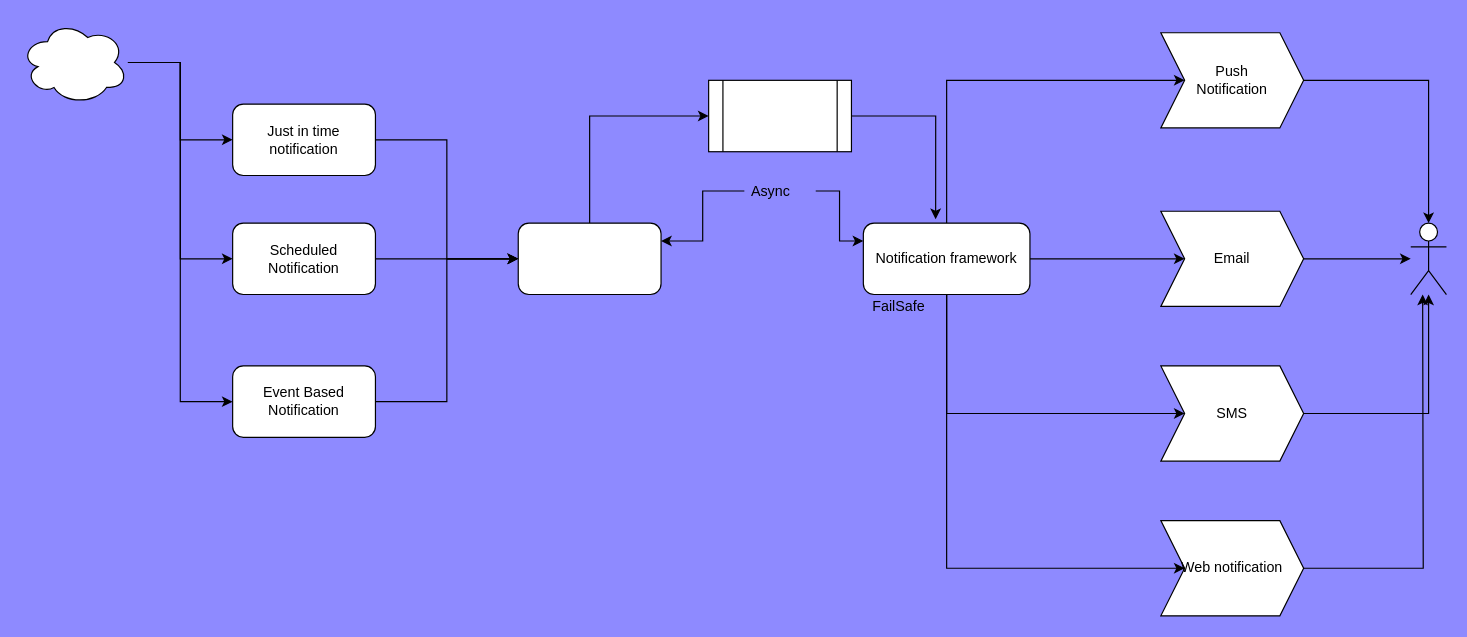
This 1467x637 diagram has some shape labels left out. The shapes that lost their labels are listed below. From the top down, each one's box as (x1, y1, x2, y2) in pixels, then its label:
(20, 20, 128, 104): Saved Notification*
(707, 79, 851, 152): Kafka/RabitMQ
(517, 222, 661, 295): Initializers
(1410, 222, 1446, 295): Actor
